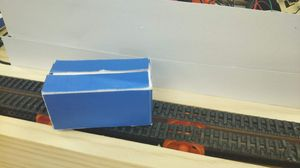box3: (40, 56, 154, 128)
